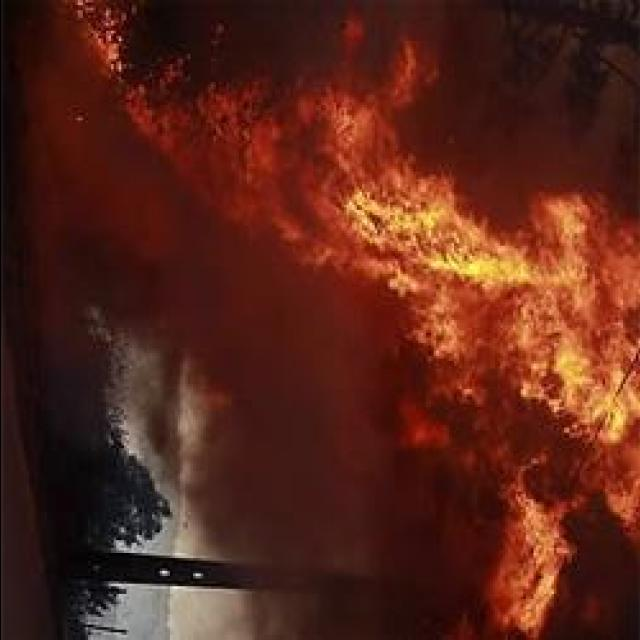fire: (537, 225, 640, 441), (386, 205, 544, 316), (324, 162, 444, 272)
smoke: (179, 296, 373, 558), (34, 151, 258, 365), (226, 468, 484, 640), (273, 22, 473, 173), (558, 499, 636, 640)
